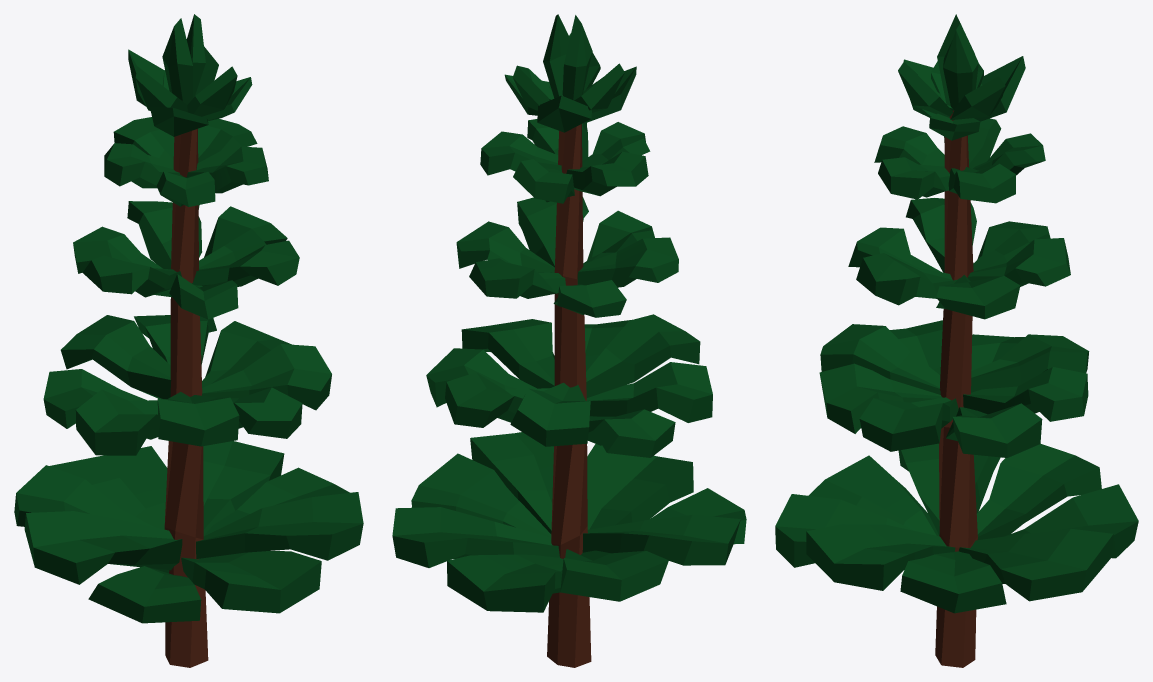
File: Tree_6_High_1.fbx
3 renders of one model, left to right at view 1: azimuth 30°, elevation 25°; view 2: azimuth 150°, elevation 25°; view 3: azimuth 270°, elevation 25°, orthographic.
Parts seen in each view (by area): view 1: Tree_6_High_1; view 2: Tree_6_High_1; view 3: Tree_6_High_1.
Boxes of the visible parts, x1,y1,x2,y2 form: Tree_6_High_1: [14, 14, 363, 667]; Tree_6_High_1: [392, 14, 746, 667]; Tree_6_High_1: [775, 14, 1138, 667].
Size of the model in its own units: 129 by 260 by 133.
